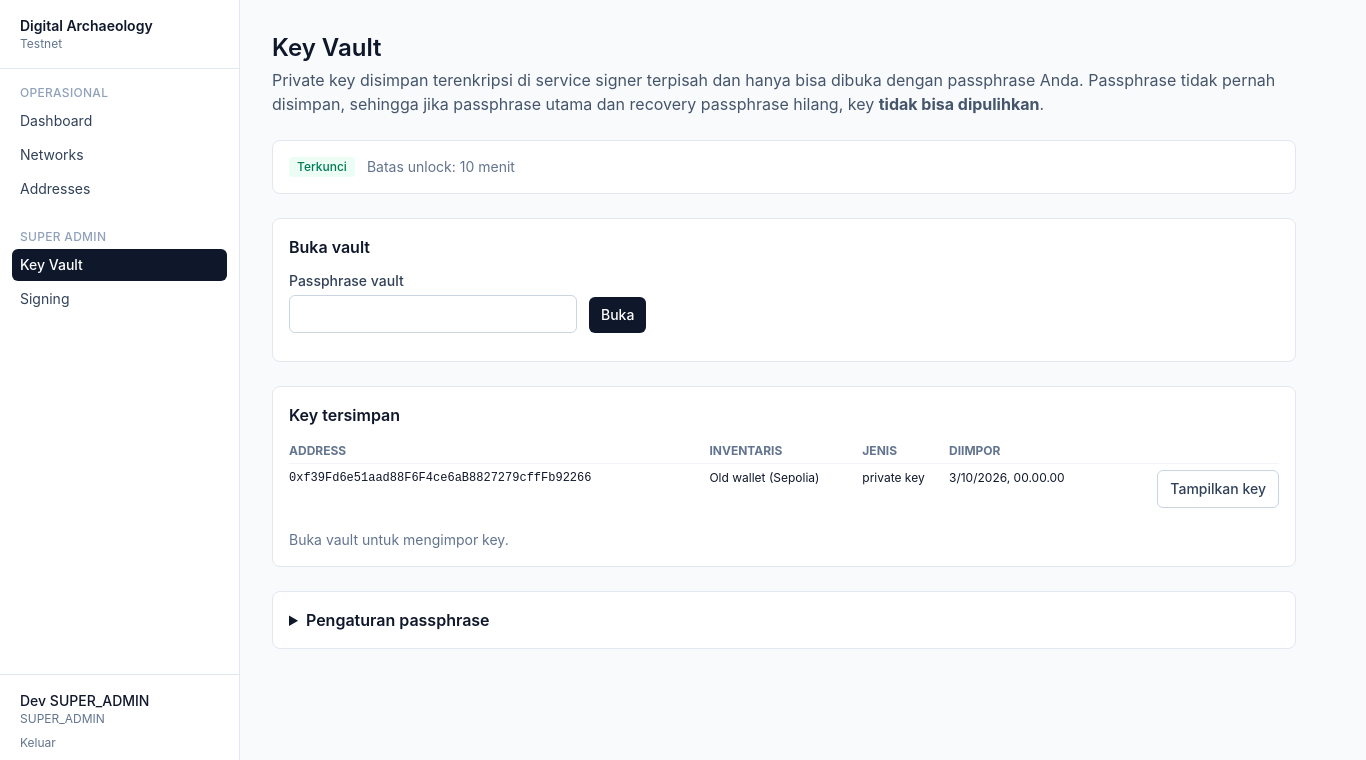
Key Vault page › reveals a key masked by default and closes itself after 60 seconds
Click the button "Tampilkan key": (1218, 489) [1157, 470, 1279, 508]
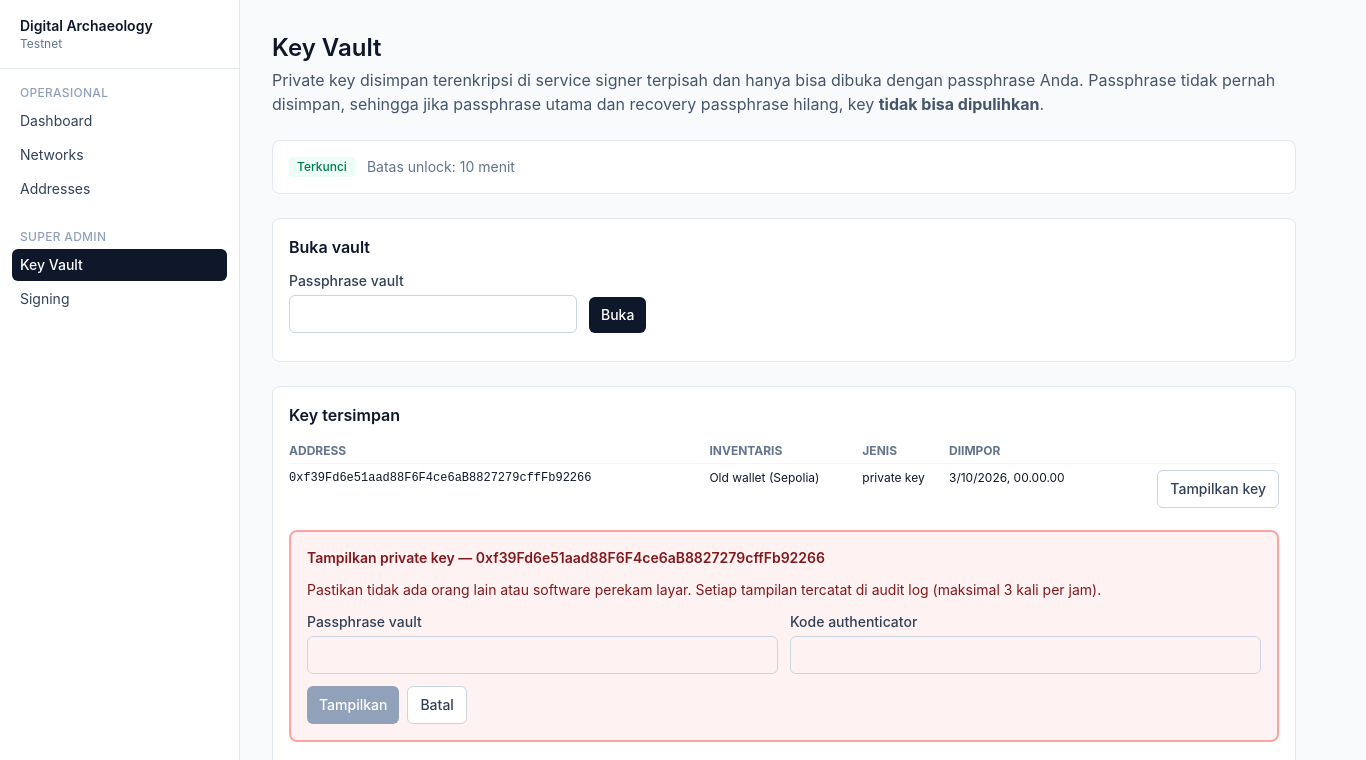
In the password field labelled "Passphrase vault" below "Kode authenticator": (542, 655) [307, 636, 778, 674], type "marble orbit cactus lantern"
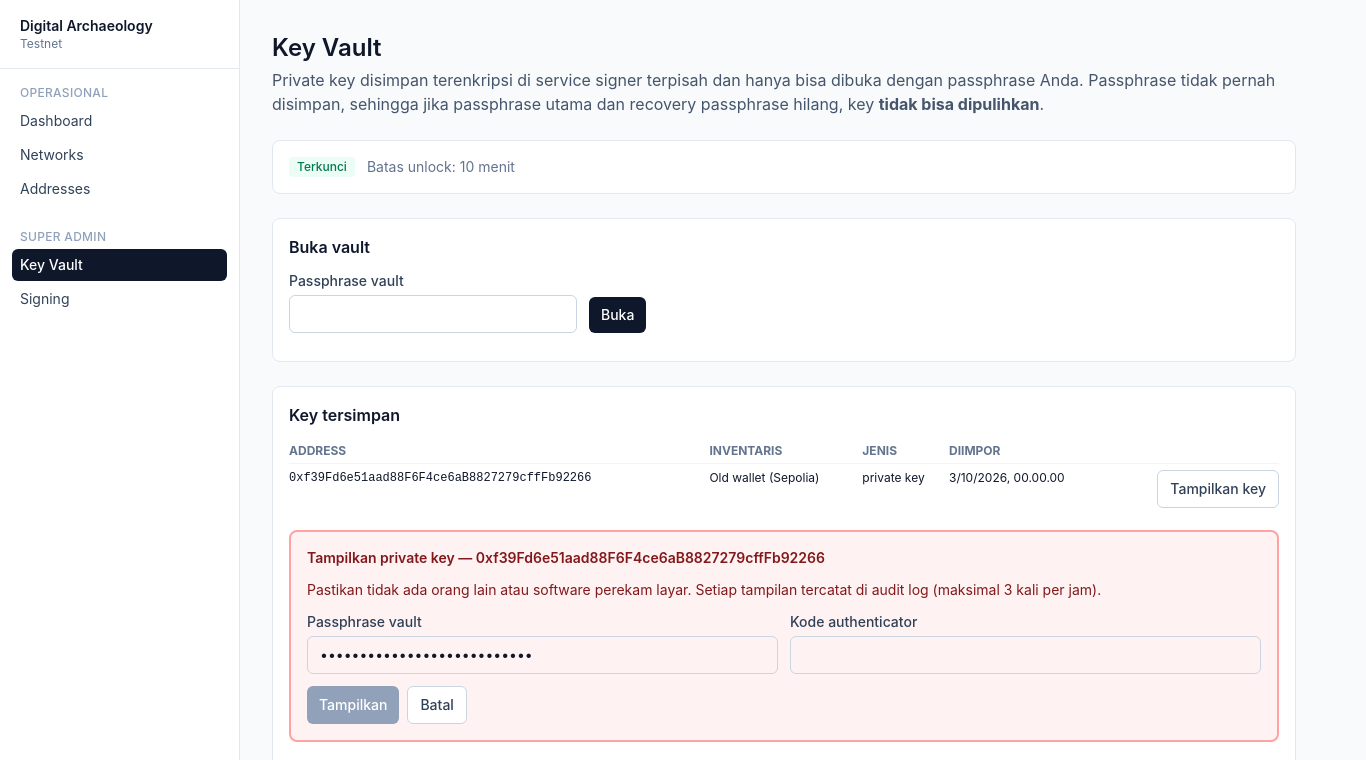
In the field labelled "Kode authenticator": (1026, 655) [790, 636, 1261, 674], type "654321"
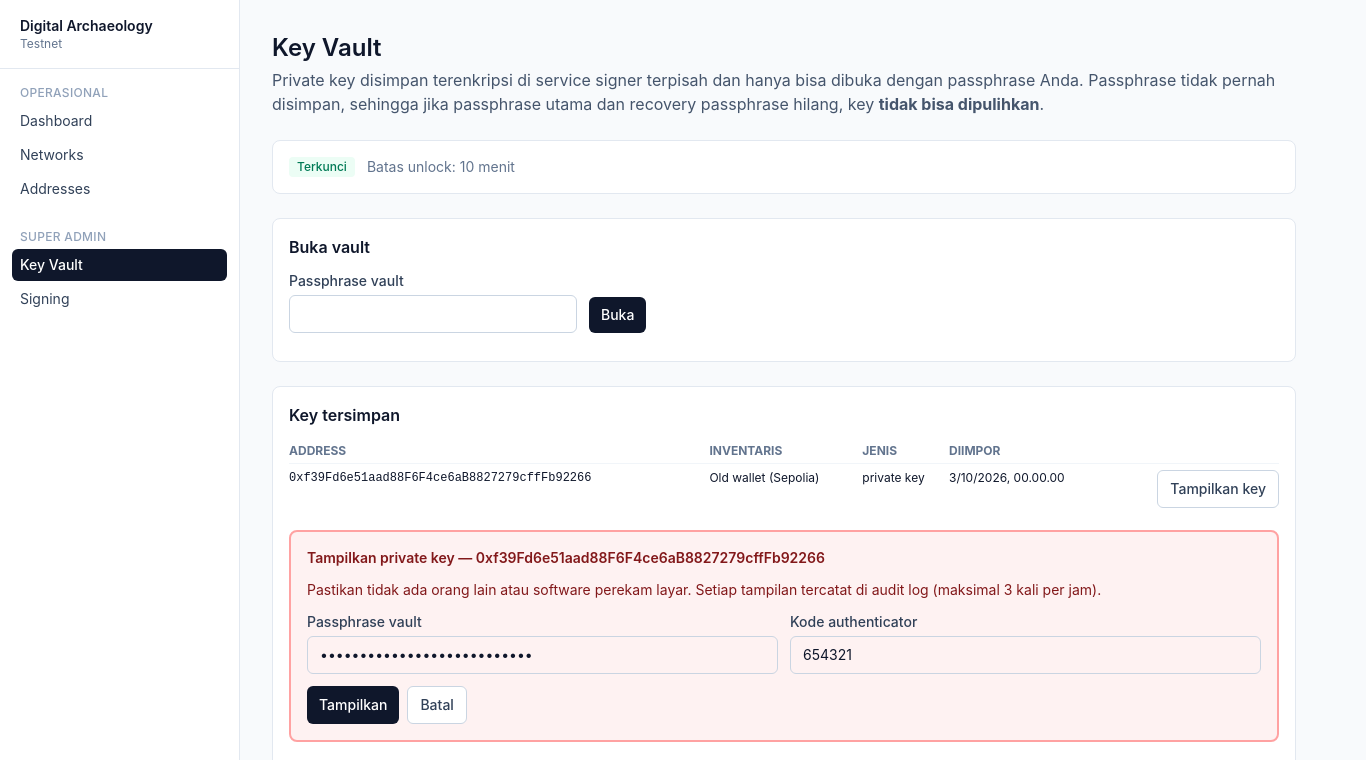
Click the button "Tampilkan": (353, 705) [307, 686, 399, 724]
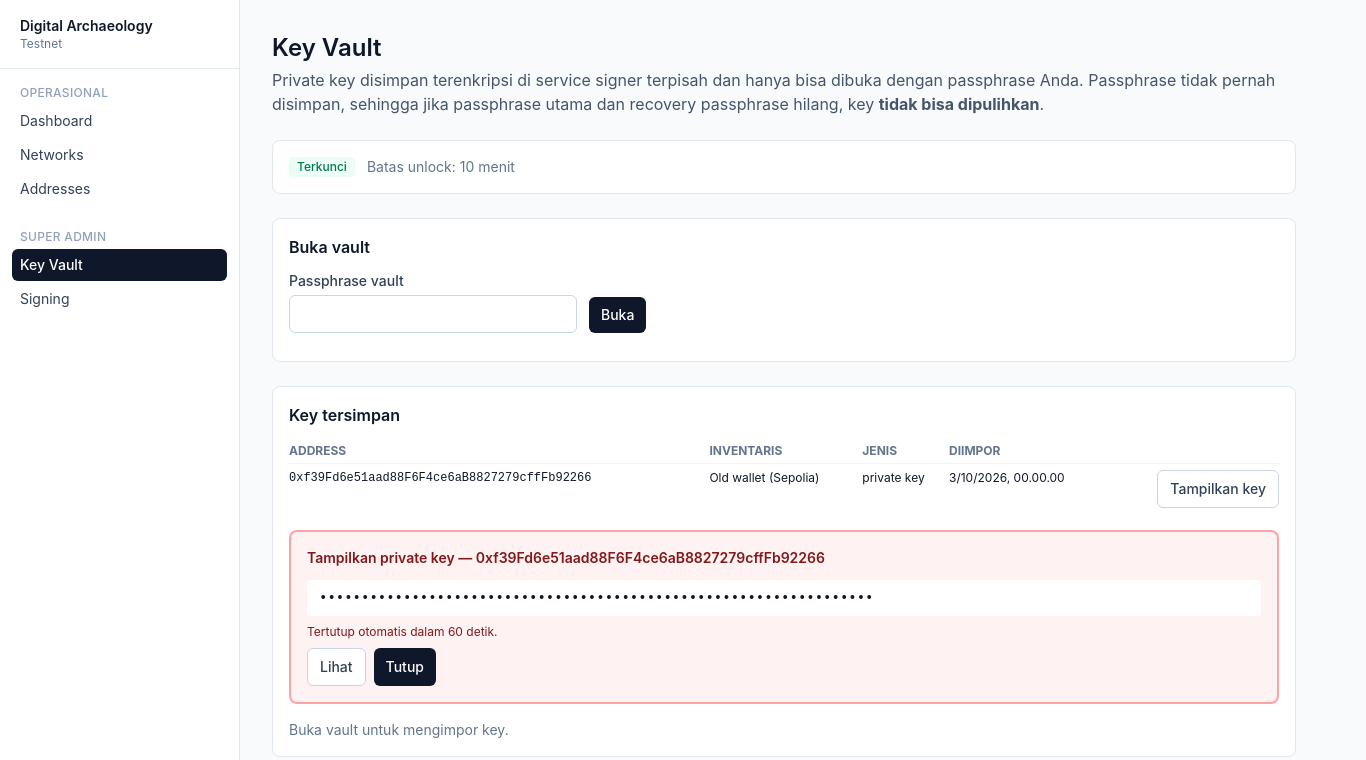
Click the button "Lihat": (336, 667) [307, 648, 366, 686]
Wait 61000 ms
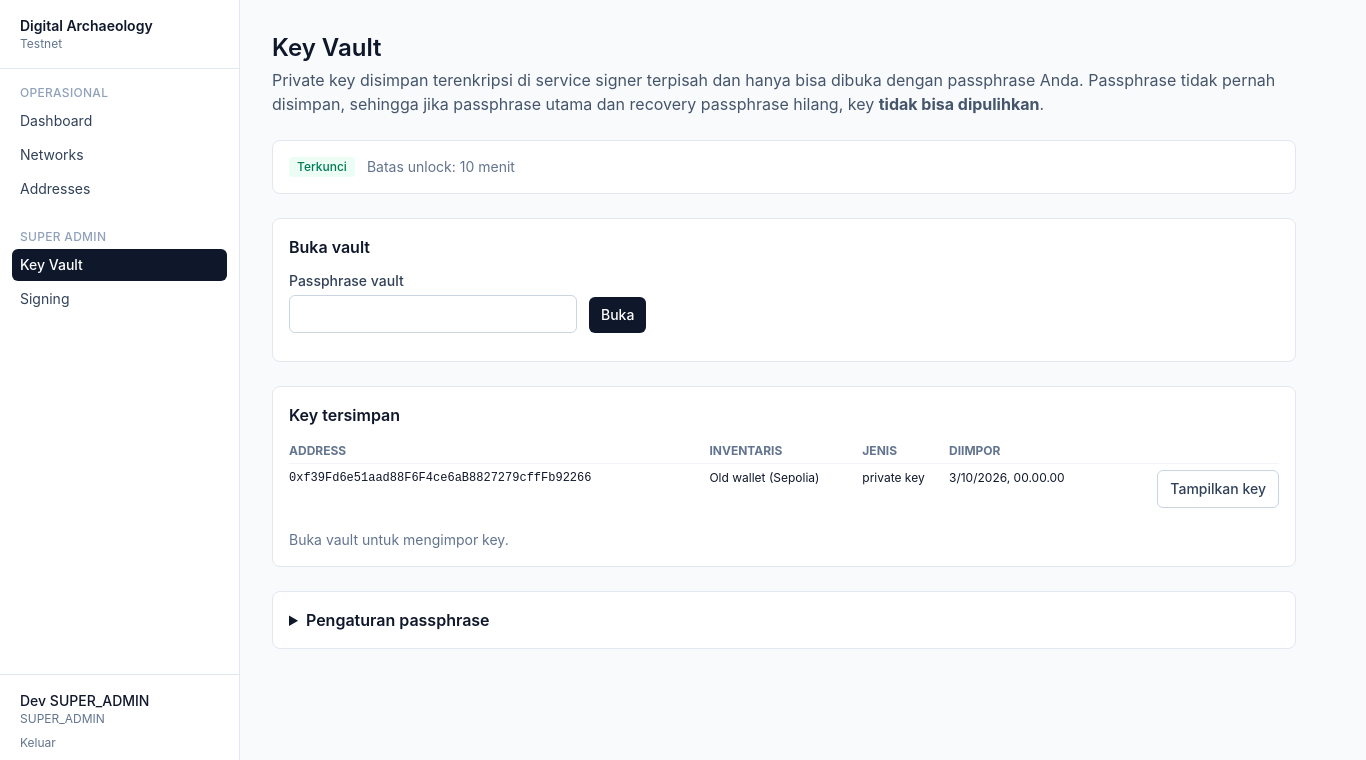
Now the text "Tampilkan private key" is gone
